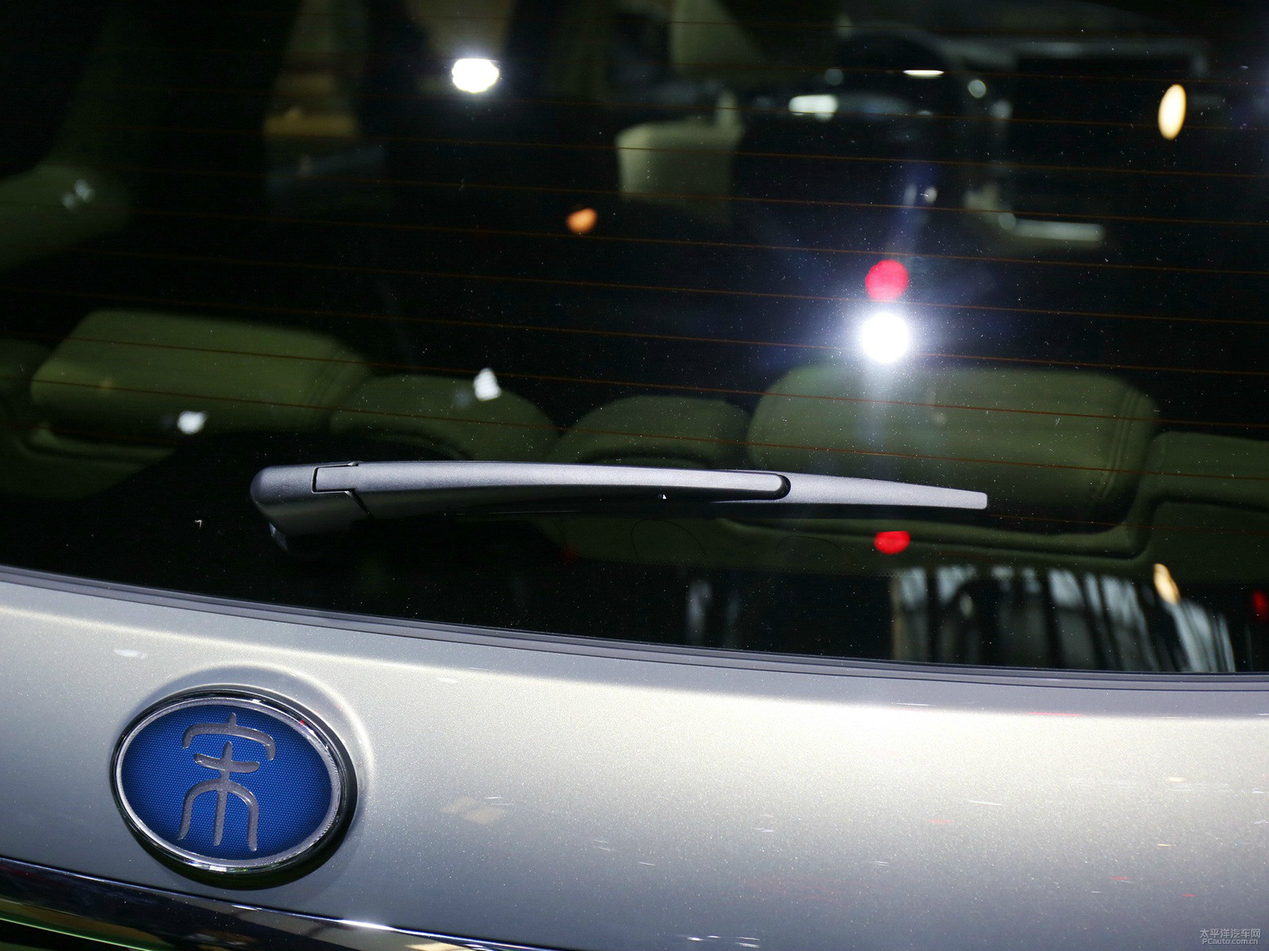BYD Song: (117, 703, 337, 874)
